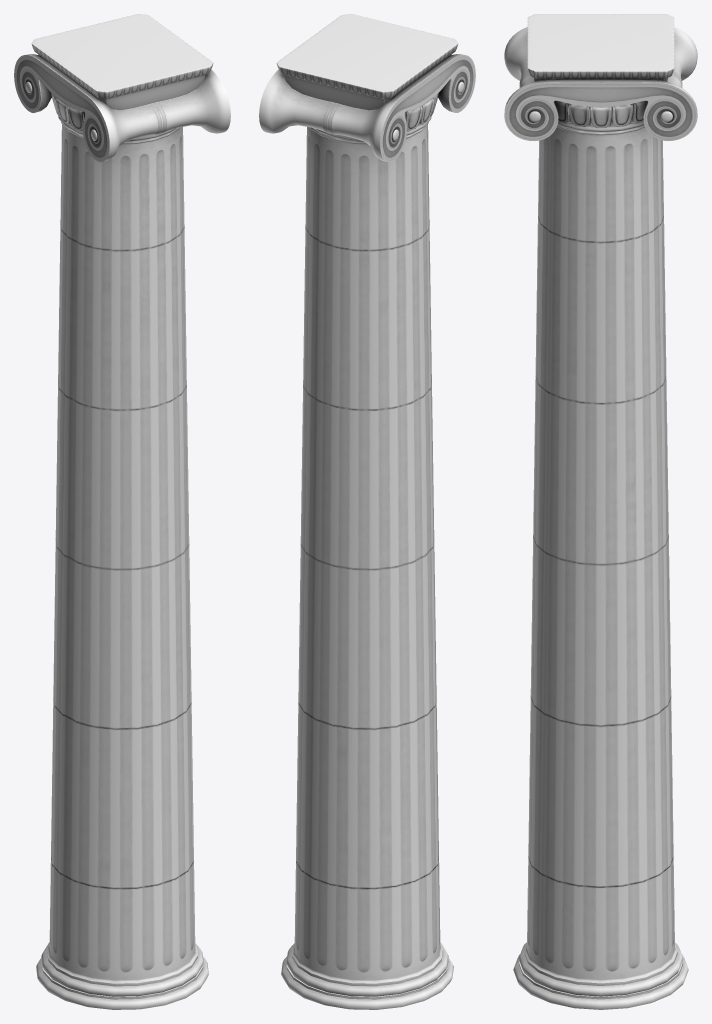
Rendered from Ionic_Column.obj.
3 views of the same model, side by side, from view 1: azimuth 30°, elevation 25°; view 2: azimuth 150°, elevation 25°; view 3: azimuth 270°, elevation 25° (orthographic).
Visible parts, largest first — view 1: sloup1_lp_Mesh.005, sloup5_lp_Mesh.009, sloup4_lp_Mesh.008, sloup3_lp_Mesh.007; view 2: sloup1_lp_Mesh.005, sloup5_lp_Mesh.009, sloup4_lp_Mesh.008, sloup3_lp_Mesh.007; view 3: sloup1_lp_Mesh.005, sloup4_lp_Mesh.008, sloup5_lp_Mesh.009, sloup3_lp_Mesh.007.
Boxes of the visible parts, x1,y1,x2,y2 form: sloup1_lp_Mesh.005: [36, 122, 208, 1009]; sloup5_lp_Mesh.009: [31, 14, 213, 110]; sloup4_lp_Mesh.008: [14, 54, 230, 162]; sloup3_lp_Mesh.007: [51, 93, 85, 131]; sloup1_lp_Mesh.005: [281, 122, 453, 1009]; sloup5_lp_Mesh.009: [276, 14, 458, 110]; sloup4_lp_Mesh.008: [259, 54, 475, 162]; sloup3_lp_Mesh.007: [404, 93, 438, 131]; sloup1_lp_Mesh.005: [513, 125, 688, 1009]; sloup4_lp_Mesh.008: [504, 27, 697, 140]; sloup5_lp_Mesh.009: [527, 14, 674, 81]; sloup3_lp_Mesh.007: [554, 101, 647, 127].
Size of the model in its own units: 0.0955 by 0.5586 by 0.1053.
